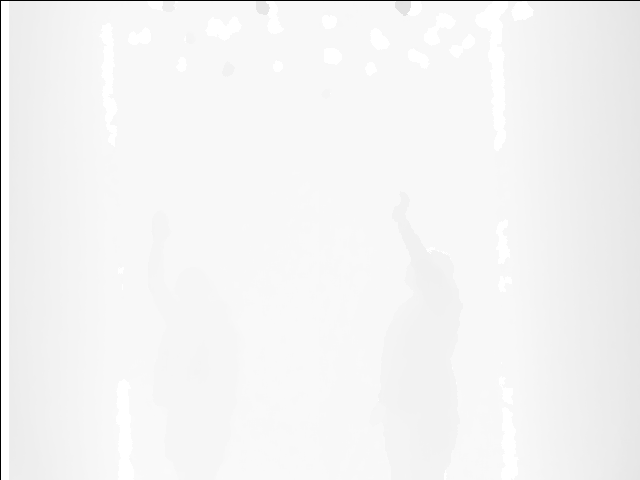hand: (389, 186, 416, 225), (148, 210, 175, 247)
